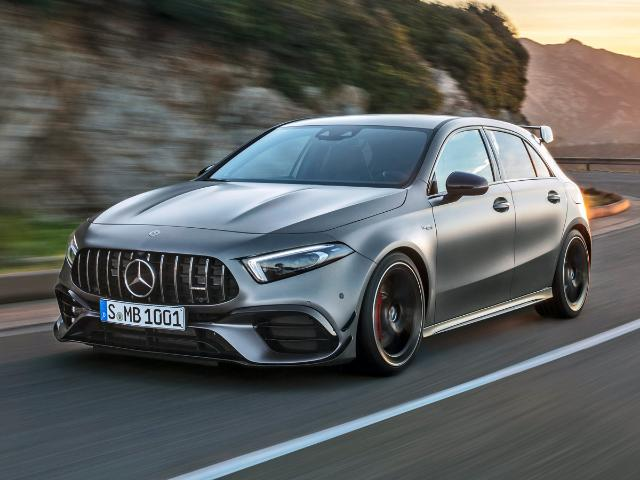benz: (52, 113, 594, 377)
